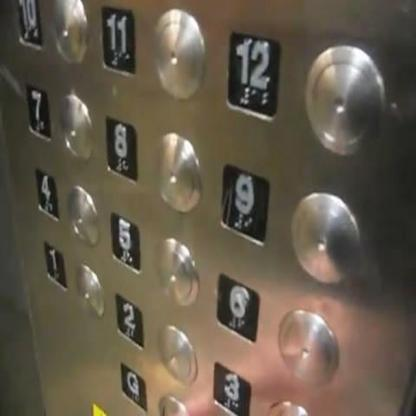1: (39, 235, 70, 294)
11: (97, 2, 140, 79)
12: (222, 25, 284, 124)
2: (112, 289, 147, 351)
3: (209, 355, 254, 415)
4: (30, 161, 60, 226)
5: (106, 207, 144, 275)
7: (20, 78, 55, 144)
8: (101, 110, 142, 187)
9: (216, 159, 272, 247)
G: (115, 358, 150, 414)
blur: (212, 267, 262, 347)
empty: (297, 37, 390, 161), (284, 186, 364, 288), (148, 4, 208, 106), (273, 302, 342, 390), (148, 126, 204, 216), (150, 231, 204, 312), (153, 319, 200, 389), (56, 89, 94, 164), (62, 178, 102, 249), (50, 0, 90, 63), (72, 257, 108, 324)
